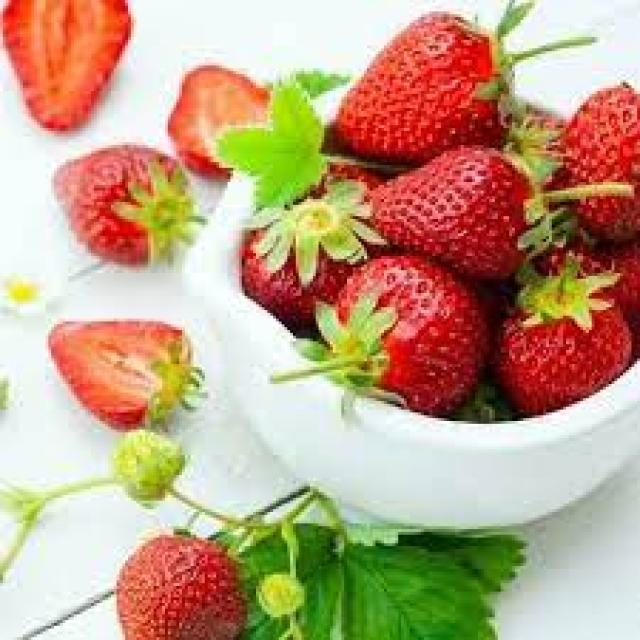strawberry: (333, 8, 518, 165), (326, 252, 490, 416), (0, 0, 151, 159), (496, 251, 633, 414), (372, 146, 532, 277), (46, 311, 218, 432), (52, 143, 196, 268), (1, 1, 131, 132), (236, 203, 357, 310)
